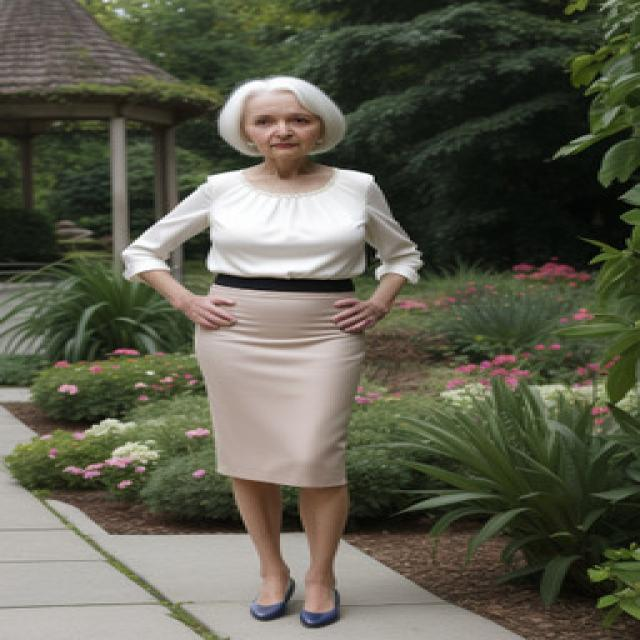Ai human 2: (110, 70, 458, 638)
